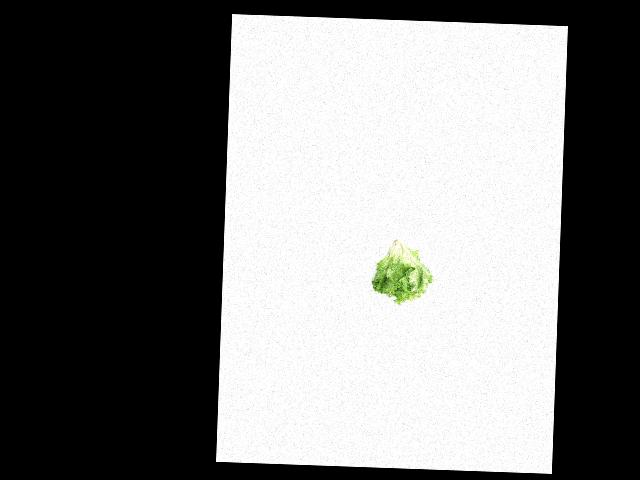lettuce: (369, 237, 436, 304)
